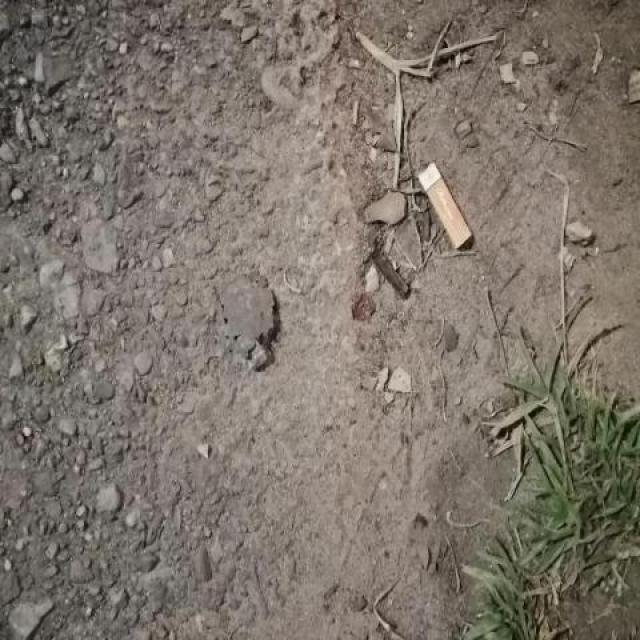non-organic waste: (414, 158, 475, 254)
